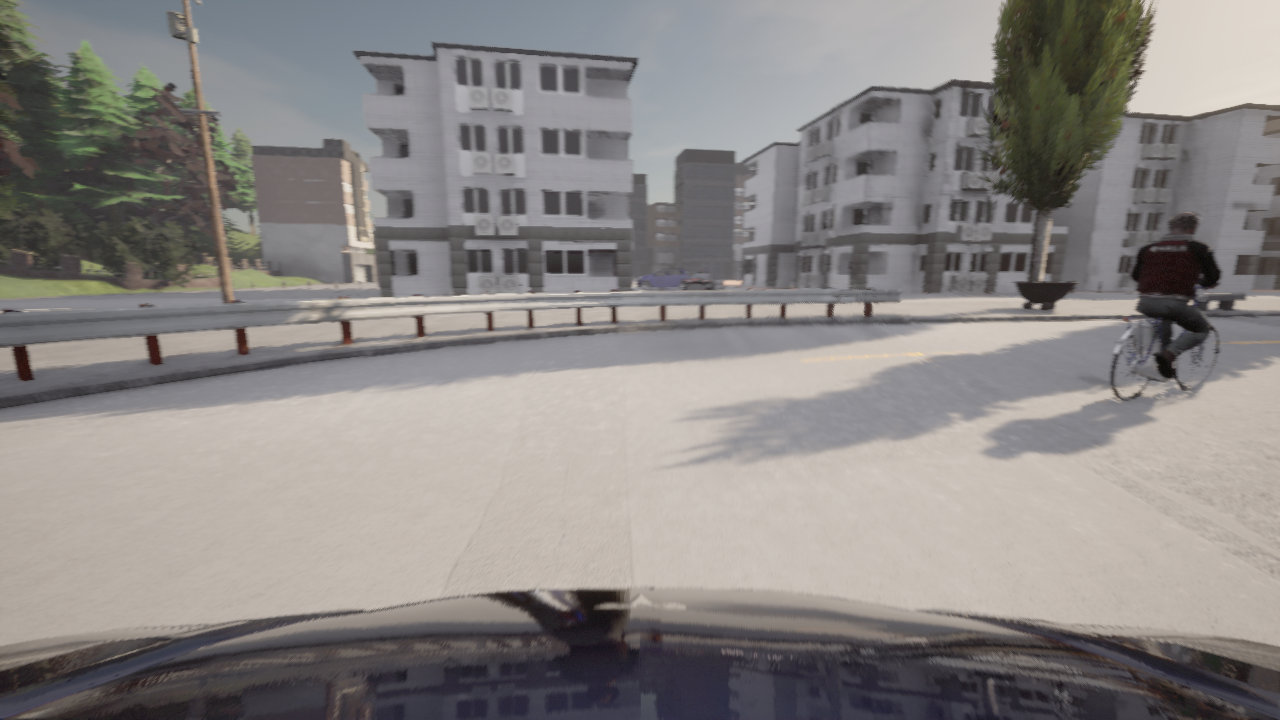cyclist: (0, 588, 1279, 719), (1111, 286, 1218, 401), (636, 268, 688, 290), (683, 271, 723, 290), (684, 279, 707, 281)
